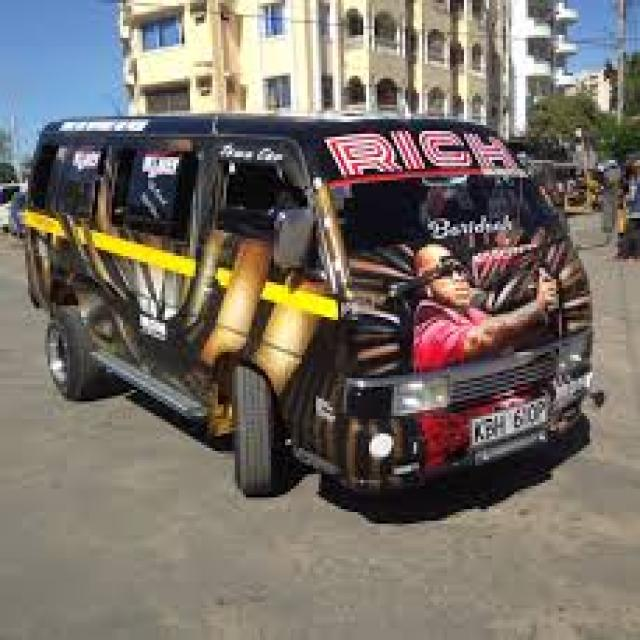matatu: (21, 41, 618, 570)
